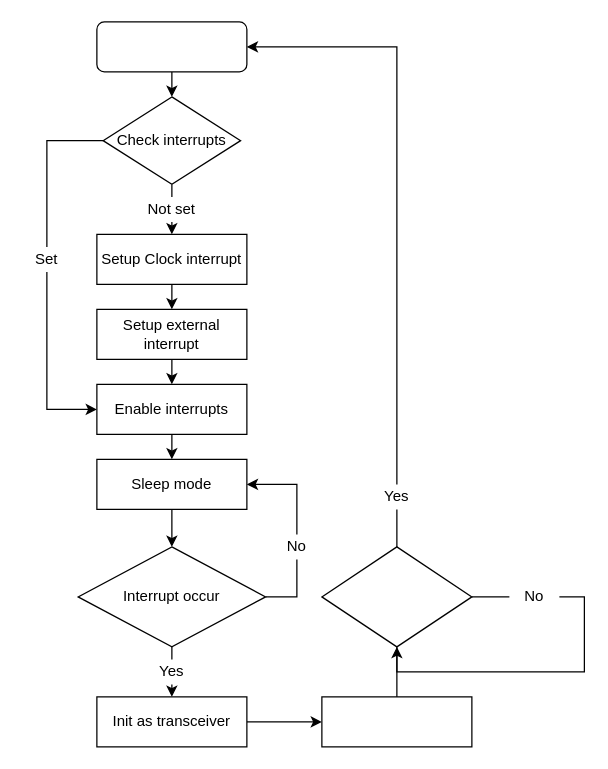
This 608x769 diagram has some shape labels left out. The centre of each missing label's shape, as x and y in pixels:
Init as Receiver: the point at 171,46
Read DHT11: the point at 396,721
Send data. ACK received?: the point at 396,596
